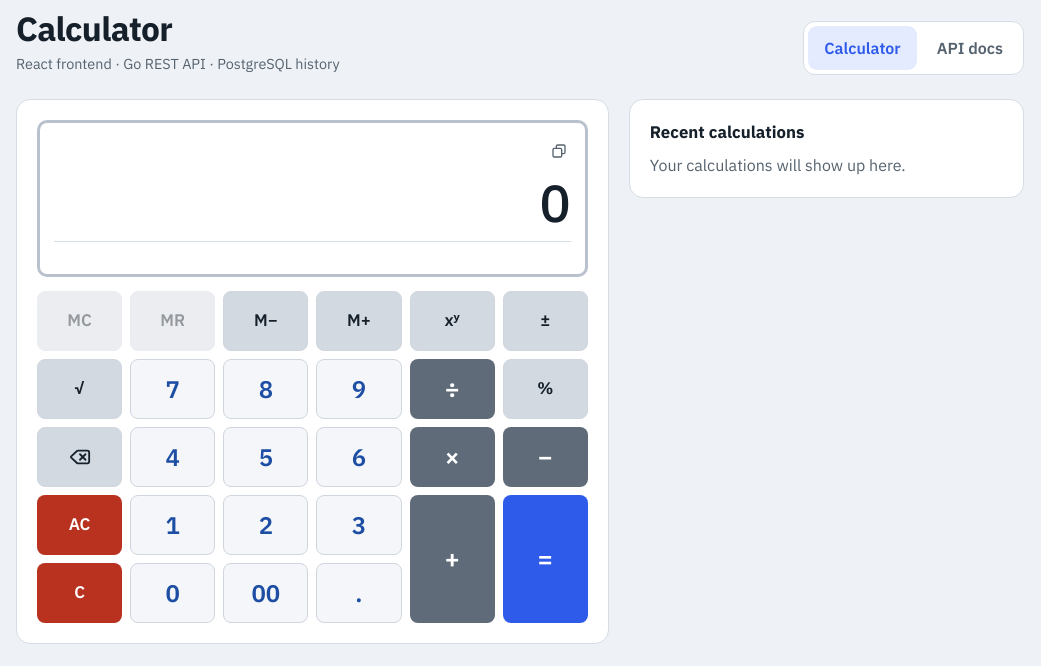
Test: App › loads operations and history, then refreshes history after a calculation
expect the text "Your calculations will show up here." is shown: met, box [650,155,906,175]
Click the button "6" at x=359, y=457, box [316,427,402,487]
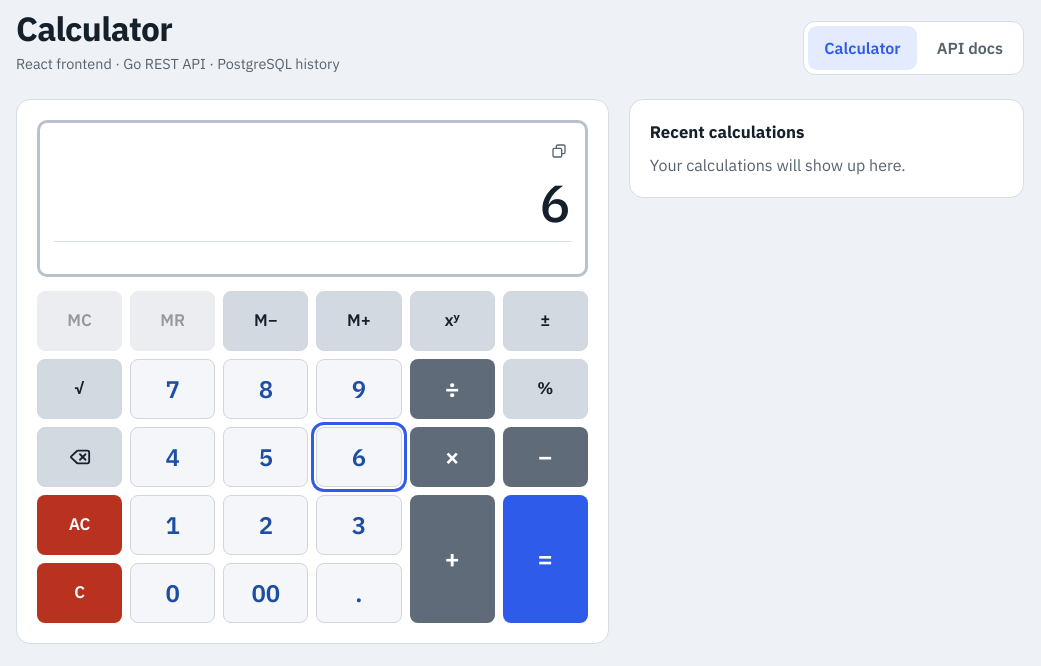
Click the button named "Multiply" at x=452, y=457, box [410,427,495,487]
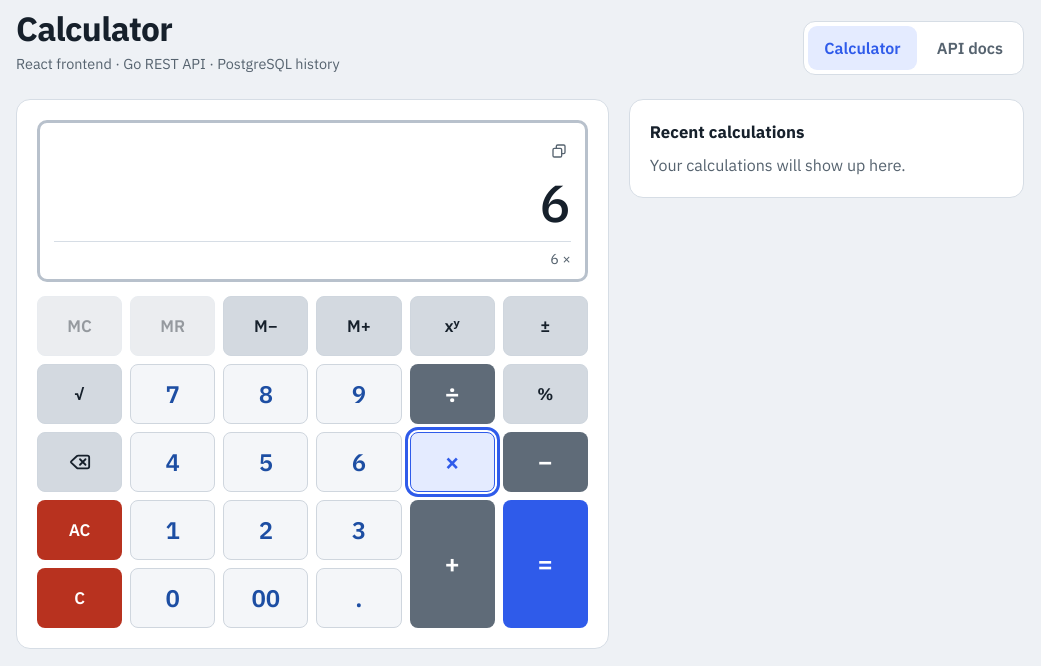
Click the button "7" at x=173, y=394, box [130,364,215,424]
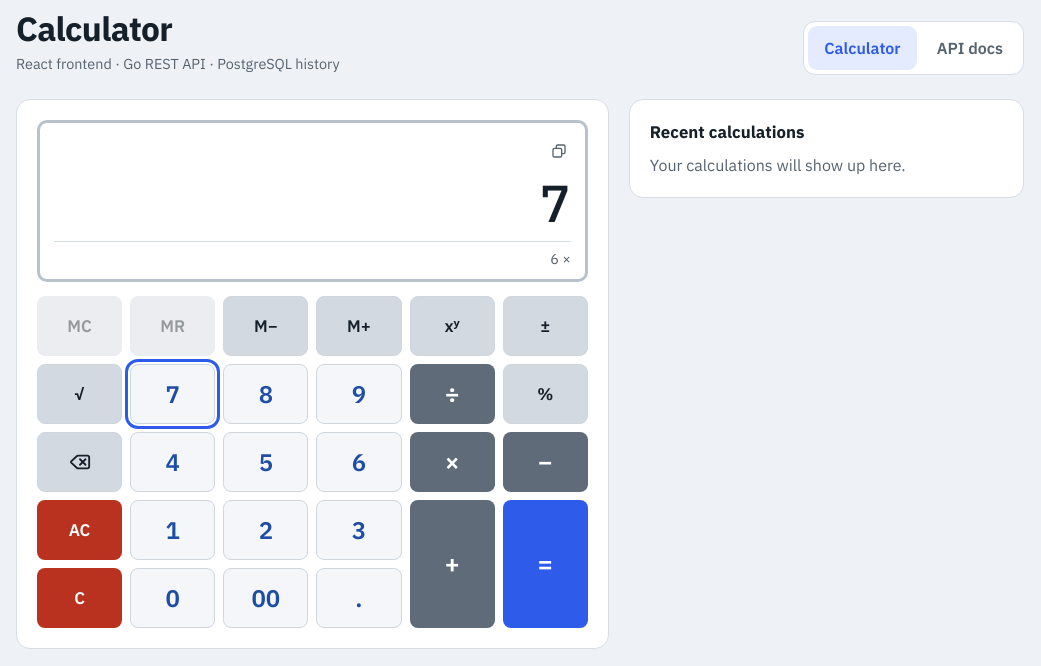
Click the button named "Equals" at x=545, y=564, box [503,500,588,628]
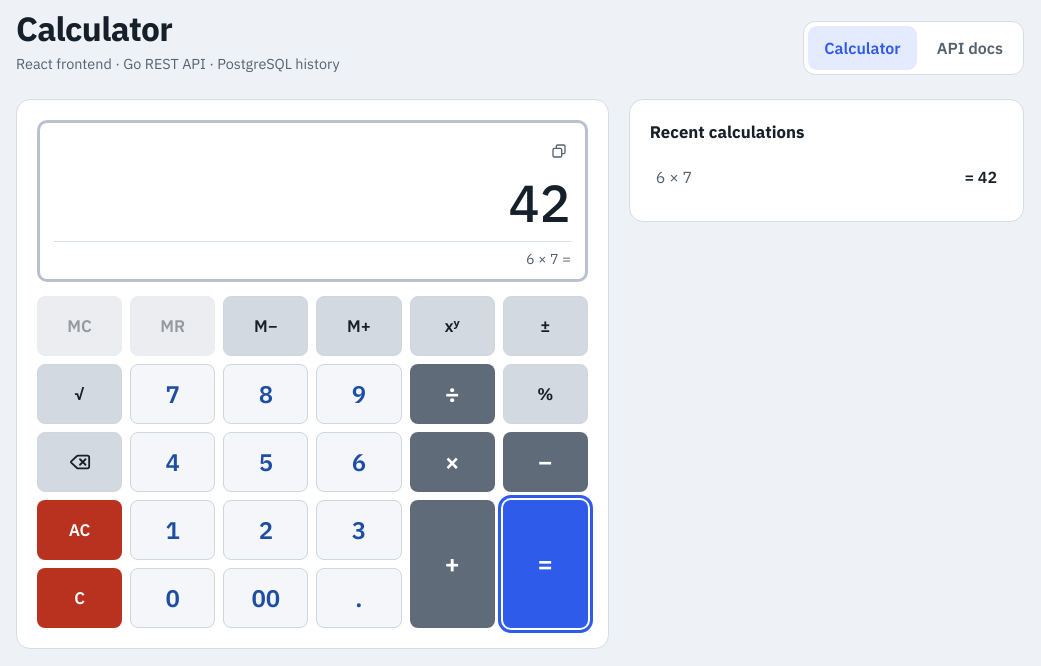
expect the text "6 × 7" is shown: met, box [656,165,692,189]
expect the text "= 42" is shown: met, box [964,165,997,189]
